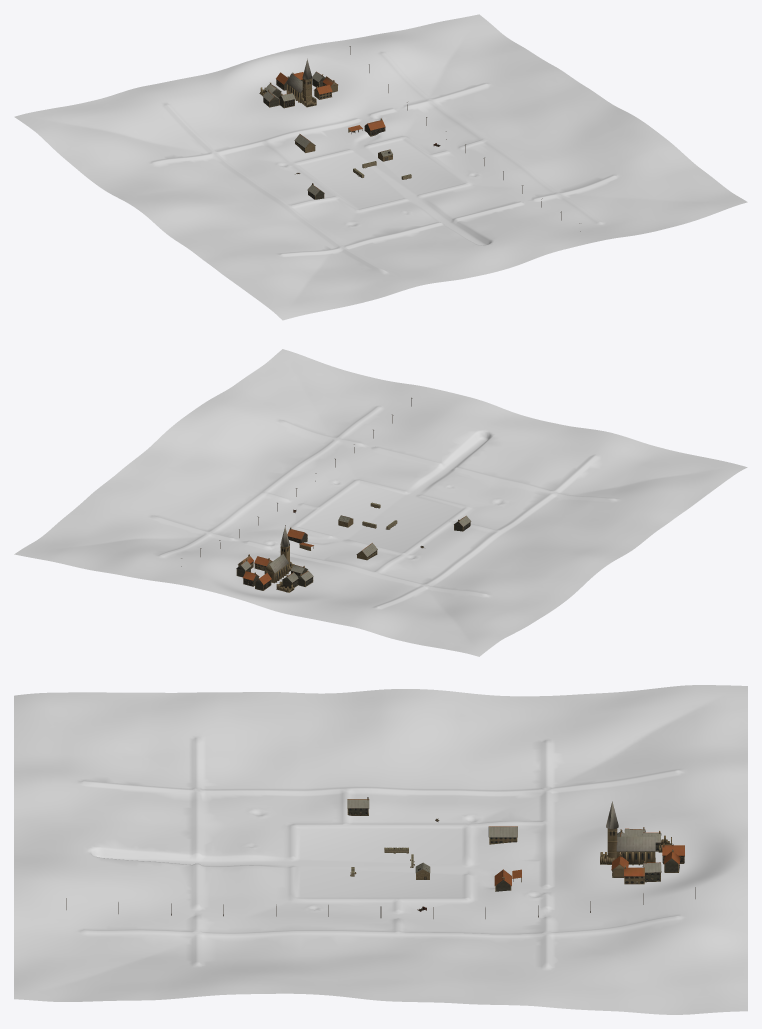
Rendered from normandy.glb.
The picture shows the model from 3 angles, top to bottom: view 1: azimuth 30°, elevation 25°; view 2: azimuth 150°, elevation 25°; view 3: azimuth 270°, elevation 25°; orthographic projection. The views are drawn at different scales.
Visible parts, largest first — view 1: terrain, church; view 2: terrain, church; view 3: terrain, church.
Boxes of the visible parts, box(x1,y1,x2,y2) form: terrain: box(14, 14, 747, 320); church: box(286, 59, 312, 102); terrain: box(14, 349, 747, 656); church: box(264, 525, 289, 583); terrain: box(14, 685, 747, 1014); church: box(606, 801, 655, 865).
Size of the model in its own units: 420 by 47.42 by 420.
3 materials, 2 textured.
